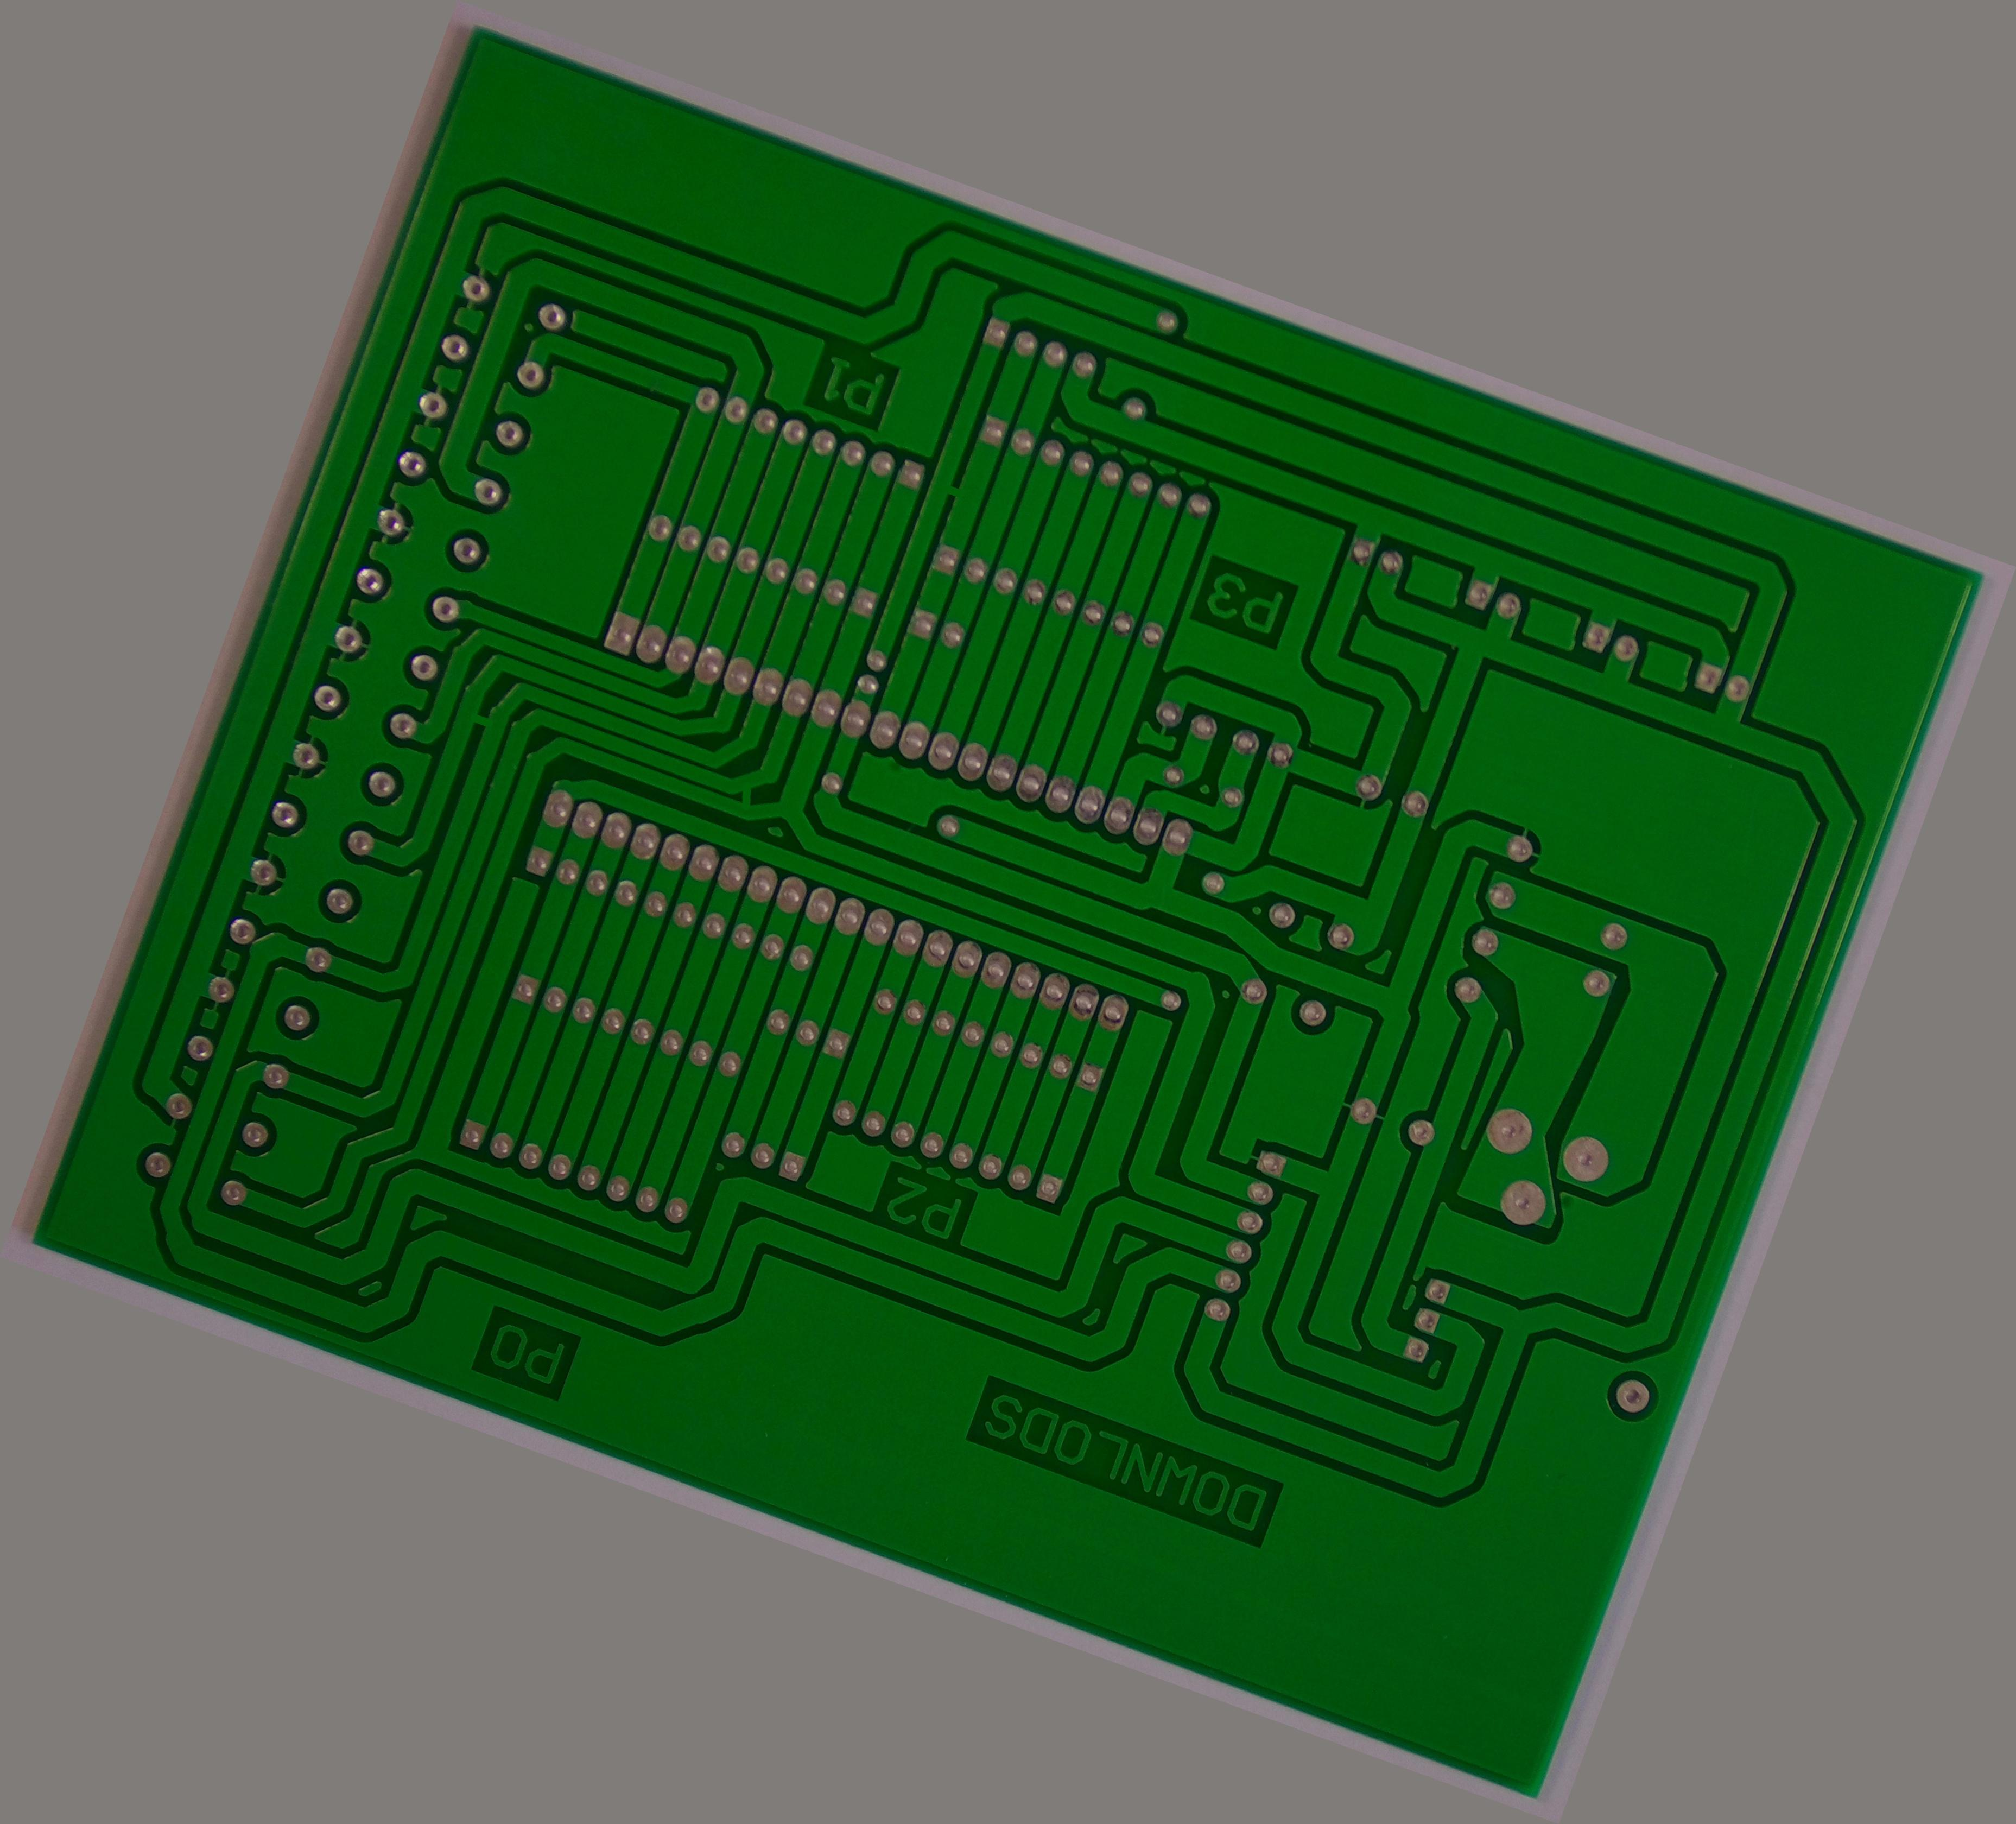short: (444, 692, 516, 757), (718, 764, 778, 823), (927, 463, 982, 521)
